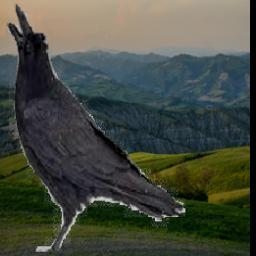Crow: (7, 0, 185, 252)
